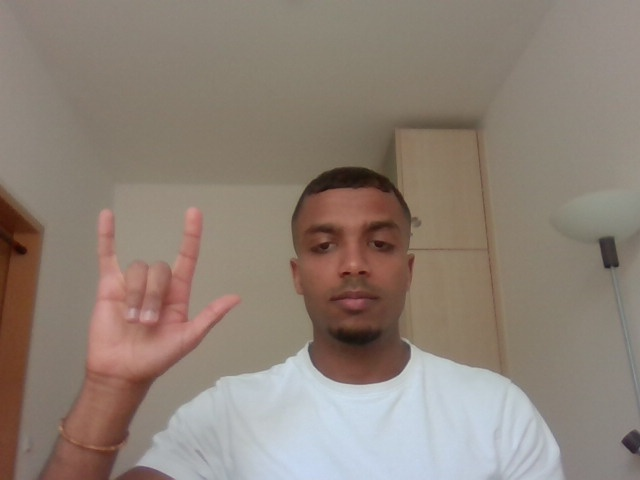absolutely: (77, 192, 249, 392)
